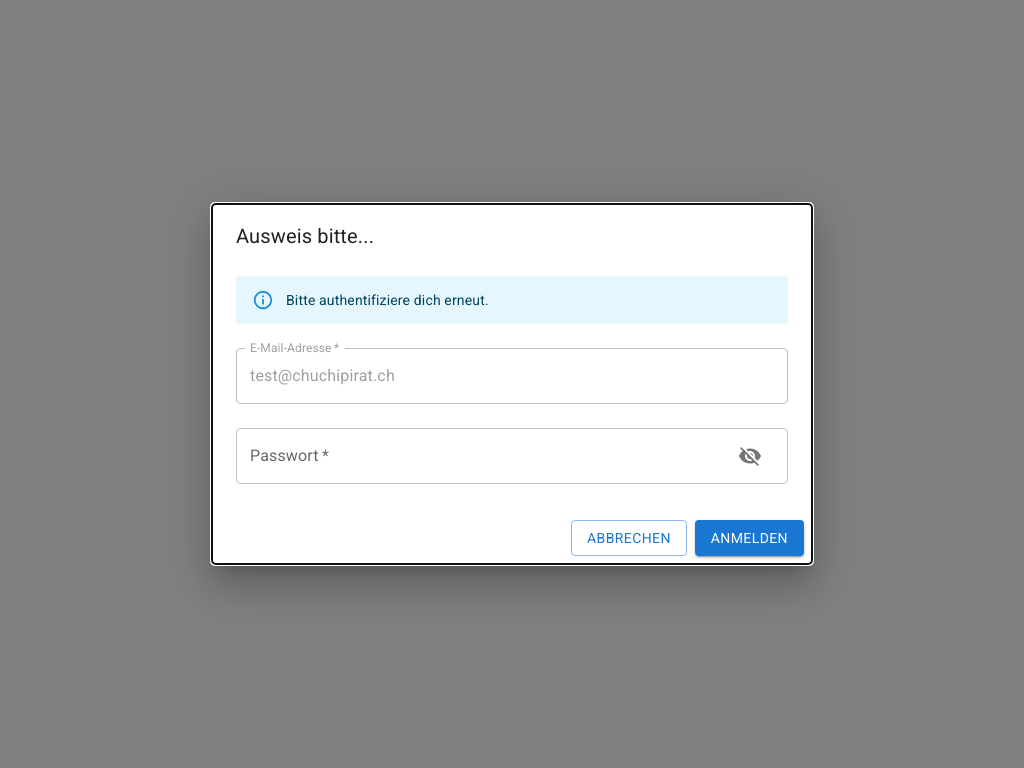
it: DialogReauthenticate › Fehlgeschlagene Reauthentifizierung › Fehlermeldung wird bei falschen Anmeldedaten angezeigt
In the password field with id "reauth-password": (477, 456) [236, 428, 718, 484], type "falsch"
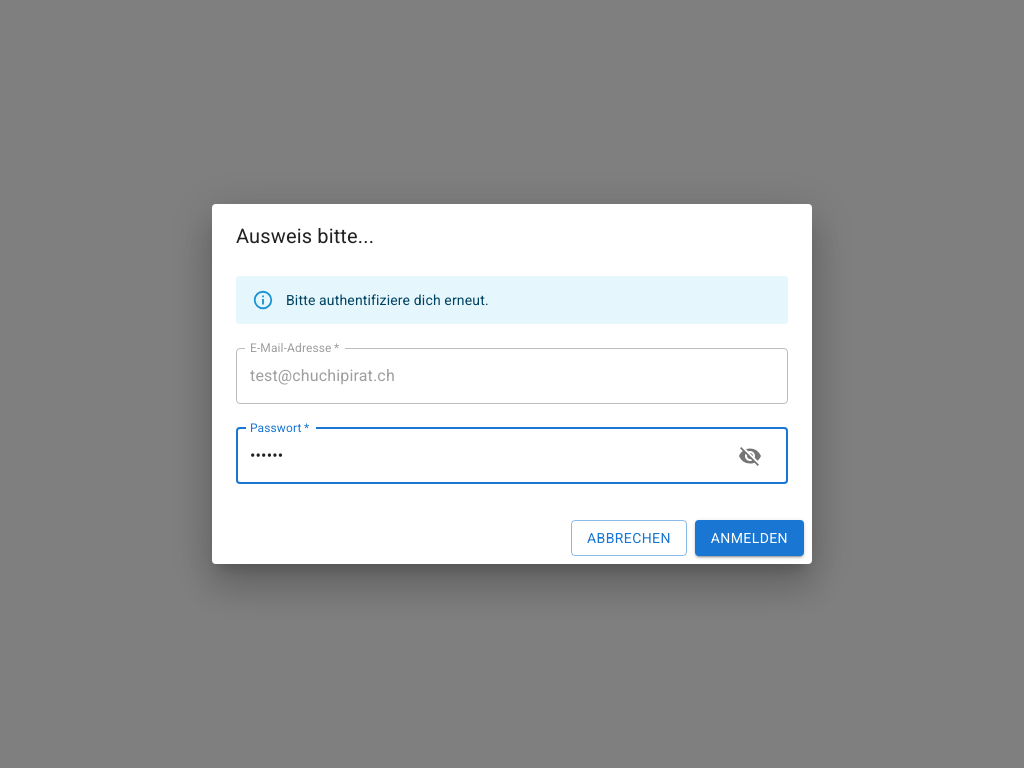
Click the button "Anmelden": (749, 538) [695, 520, 804, 556]
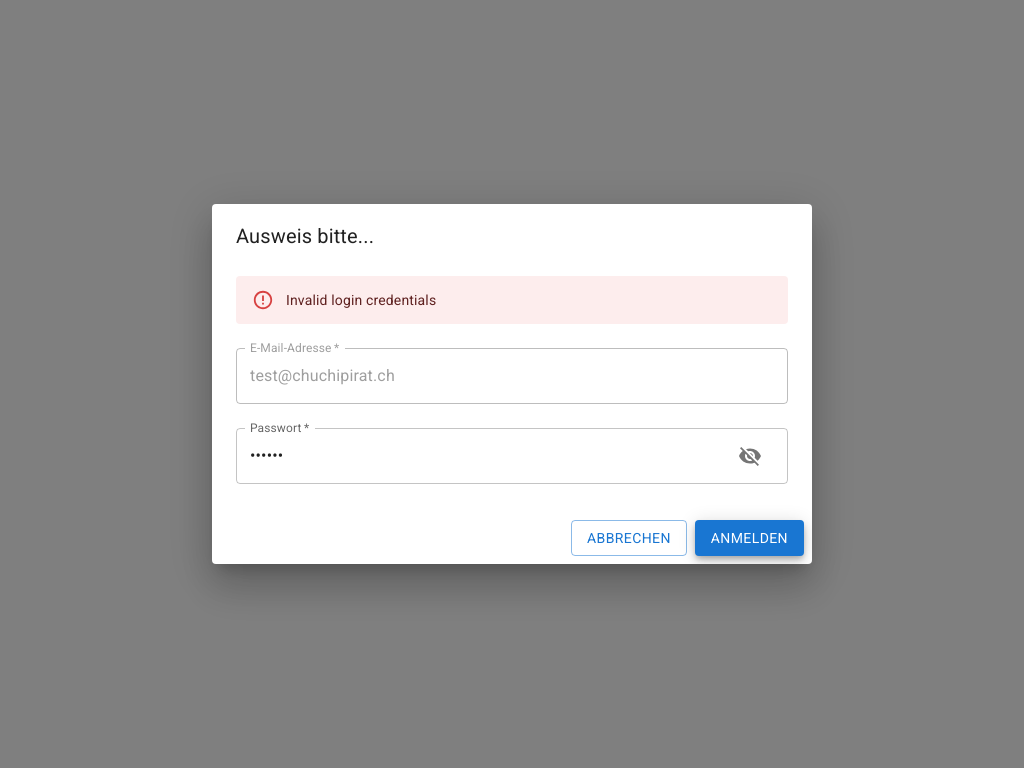
Expected: the text "Invalid login credentials" is shown, [286, 292, 436, 308]
